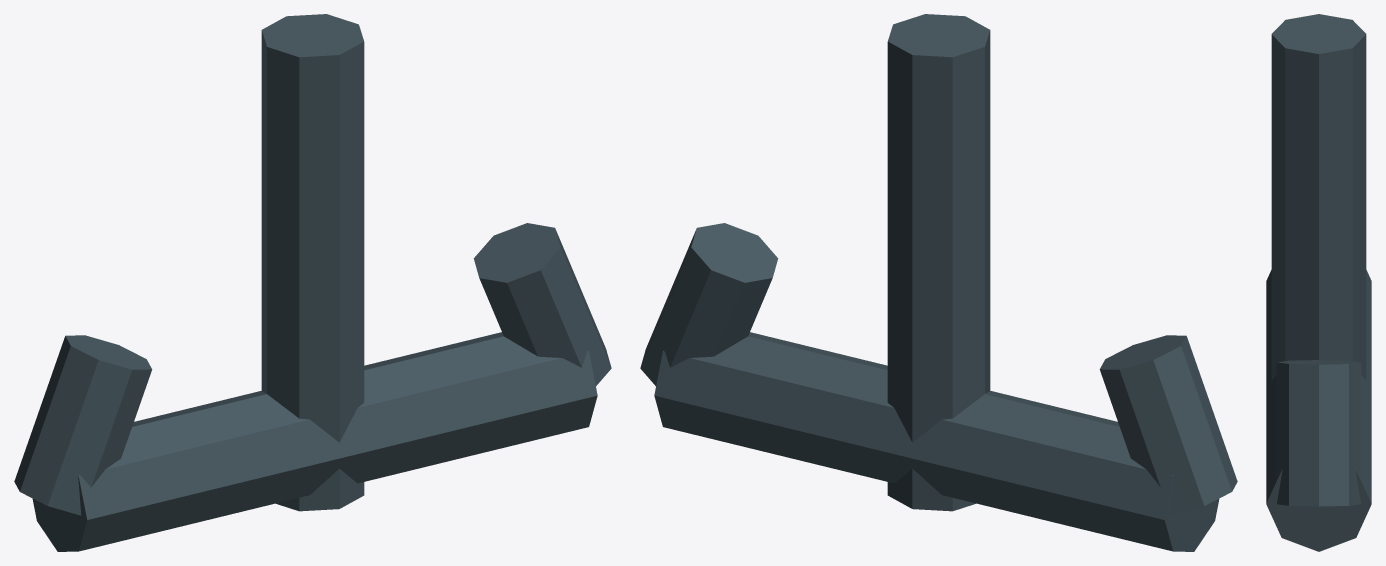
File: set_miniature_anchor.glb
3 views of the same model, side by side, from view 1: azimuth 30°, elevation 25°; view 2: azimuth 150°, elevation 25°; view 3: azimuth 270°, elevation 25° (orthographic). The views are drawn at different scales.
Parts seen in each view (by area): view 1: set_miniature_anchor; view 2: set_miniature_anchor; view 3: set_miniature_anchor.
Part boxes in pixels (bbox=[...]): set_miniature_anchor: bbox=[14, 14, 611, 551]; set_miniature_anchor: bbox=[640, 14, 1237, 551]; set_miniature_anchor: bbox=[1266, 14, 1371, 551].
Size of the model in its own units: 0.2297 by 0.17 by 0.04.
